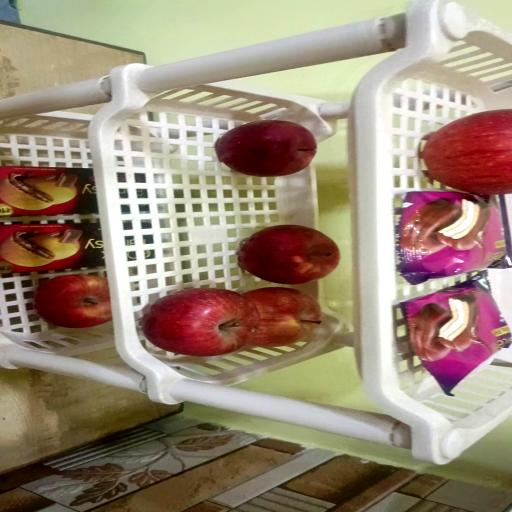Apple: (141, 288, 259, 357), (420, 109, 512, 195), (238, 225, 340, 285), (214, 120, 317, 177), (242, 287, 321, 347), (34, 274, 111, 328)
Choco Fills: (0, 222, 104, 274), (0, 166, 97, 217)
Choco Pie: (401, 275, 512, 396), (395, 190, 508, 284)
